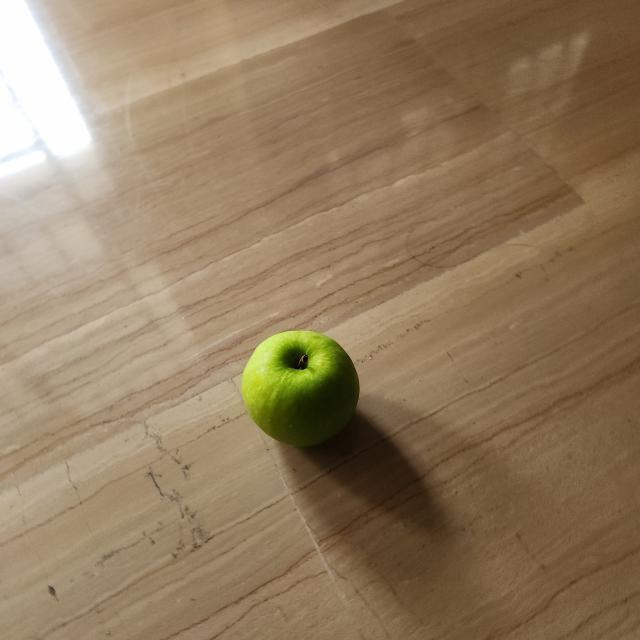apple: (238, 328, 362, 453)
